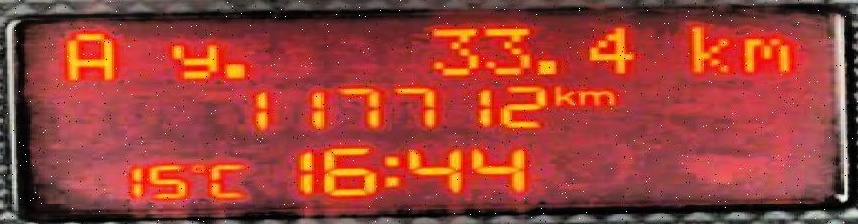-: (532, 55, 561, 75), (220, 61, 247, 78)
1: (467, 85, 496, 131), (292, 146, 314, 202), (247, 87, 274, 130), (305, 88, 327, 129), (125, 158, 145, 201)
2: (501, 82, 541, 131)
3: (423, 25, 478, 76), (483, 25, 529, 77)
4: (467, 145, 529, 194), (403, 146, 458, 192), (585, 25, 636, 72)
5: (145, 161, 187, 198)
6: (320, 142, 376, 197)
7: (389, 81, 438, 127), (336, 83, 382, 126)
X: (49, 28, 116, 78), (734, 32, 800, 76), (685, 22, 729, 80), (167, 37, 214, 81), (205, 157, 247, 200), (578, 85, 618, 109), (380, 153, 398, 194), (547, 81, 571, 106)
